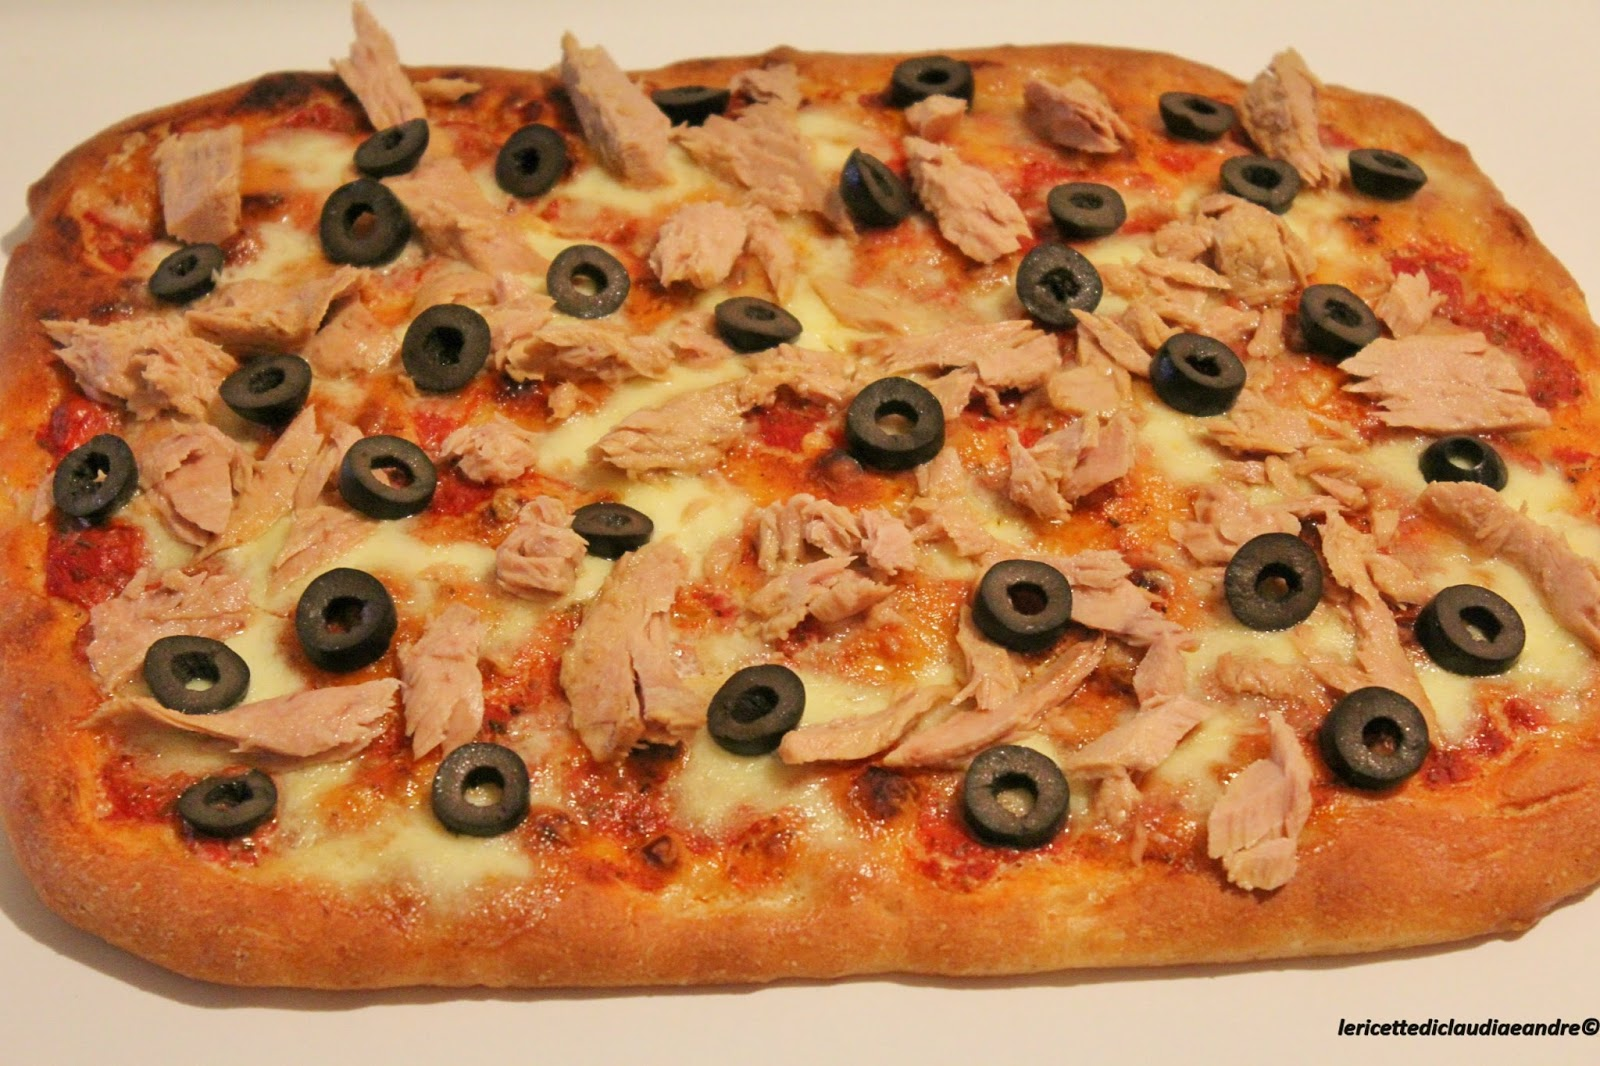olive: (1221, 531, 1330, 638), (960, 746, 1073, 849), (289, 572, 401, 671), (1417, 584, 1530, 681), (1325, 686, 1433, 786), (843, 380, 950, 470), (140, 638, 259, 719), (1002, 242, 1111, 327), (433, 747, 539, 835), (703, 667, 807, 752), (972, 558, 1075, 642), (316, 181, 416, 268), (1153, 327, 1248, 418), (399, 305, 491, 396), (347, 435, 441, 514), (541, 245, 638, 321), (48, 443, 142, 518), (176, 770, 280, 830), (841, 148, 912, 228), (222, 360, 315, 422), (708, 297, 808, 355), (1305, 283, 1385, 355), (496, 120, 569, 197), (1425, 434, 1516, 496), (891, 52, 983, 109), (1218, 153, 1303, 215), (567, 502, 657, 559), (1157, 84, 1244, 140), (1353, 145, 1433, 203), (1043, 183, 1136, 233), (358, 123, 431, 177), (151, 250, 228, 301), (650, 83, 743, 123)
